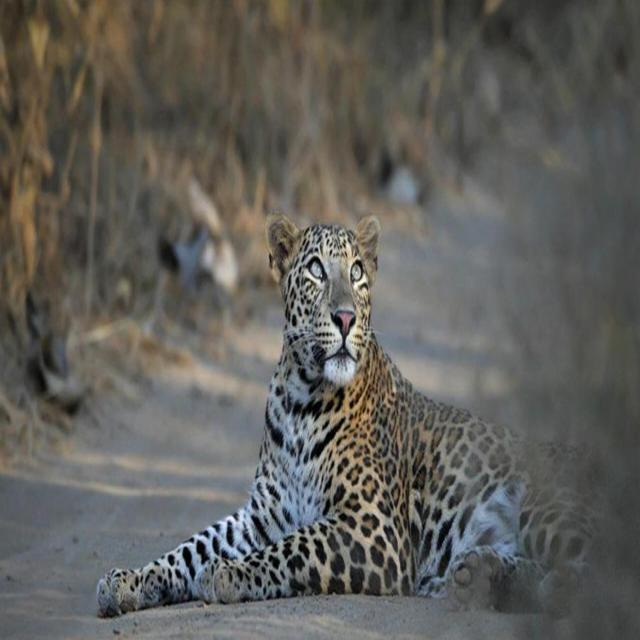Leopard: (96, 222, 592, 614)
